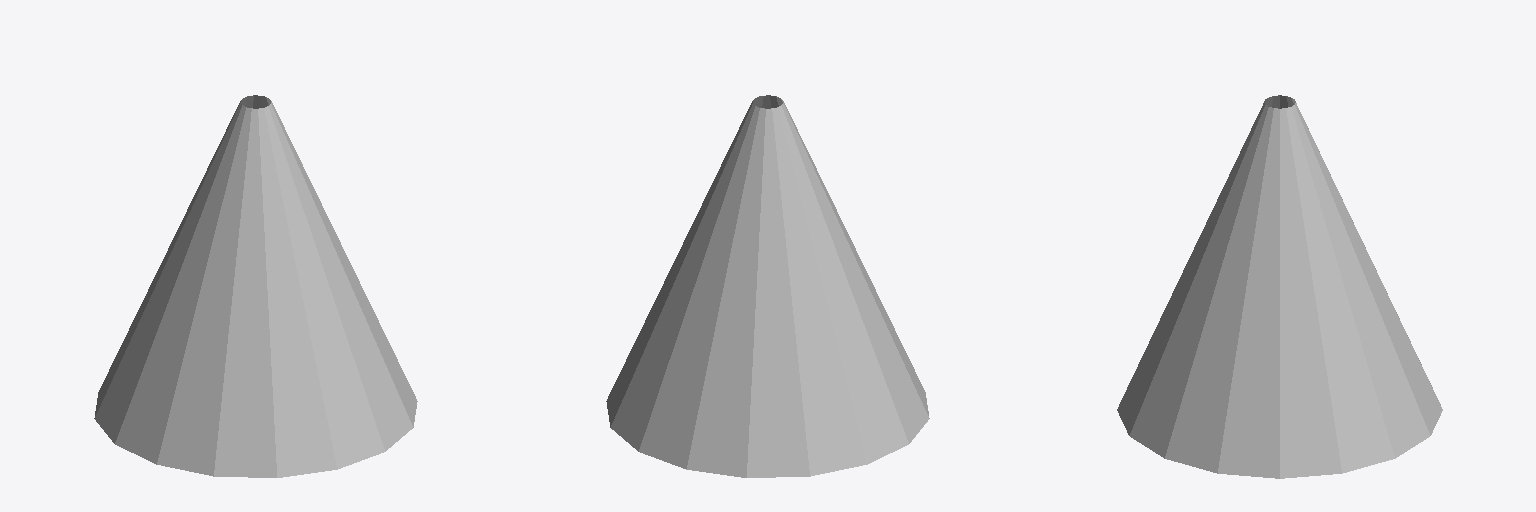
The model's file is fx_speedRayCone.obj.
3 renders of one model, left to right at view 1: azimuth 30°, elevation 25°; view 2: azimuth 150°, elevation 25°; view 3: azimuth 270°, elevation 25°, orthographic.
Bounding box in the file's own units: 4.8 × 5 × 4.8.